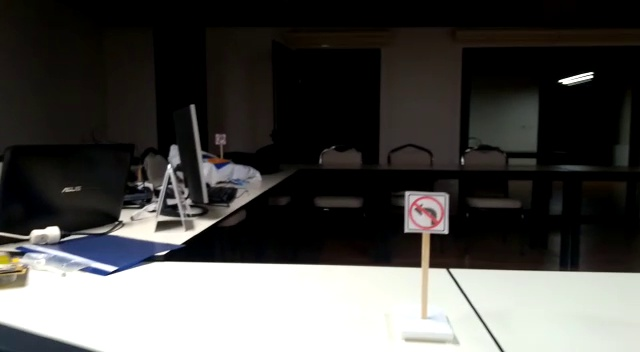sola_donulmez: (407, 193, 449, 229)
